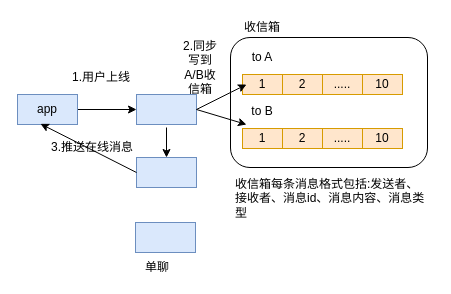
Some shapes in this 451 by 294 pixel diagram are drawn without their labels. The centre of each missing label's shape, as x and y in pixels:
imService: point (165, 237)
redis: point (166, 172)
长连接(goim): point (166, 109)
